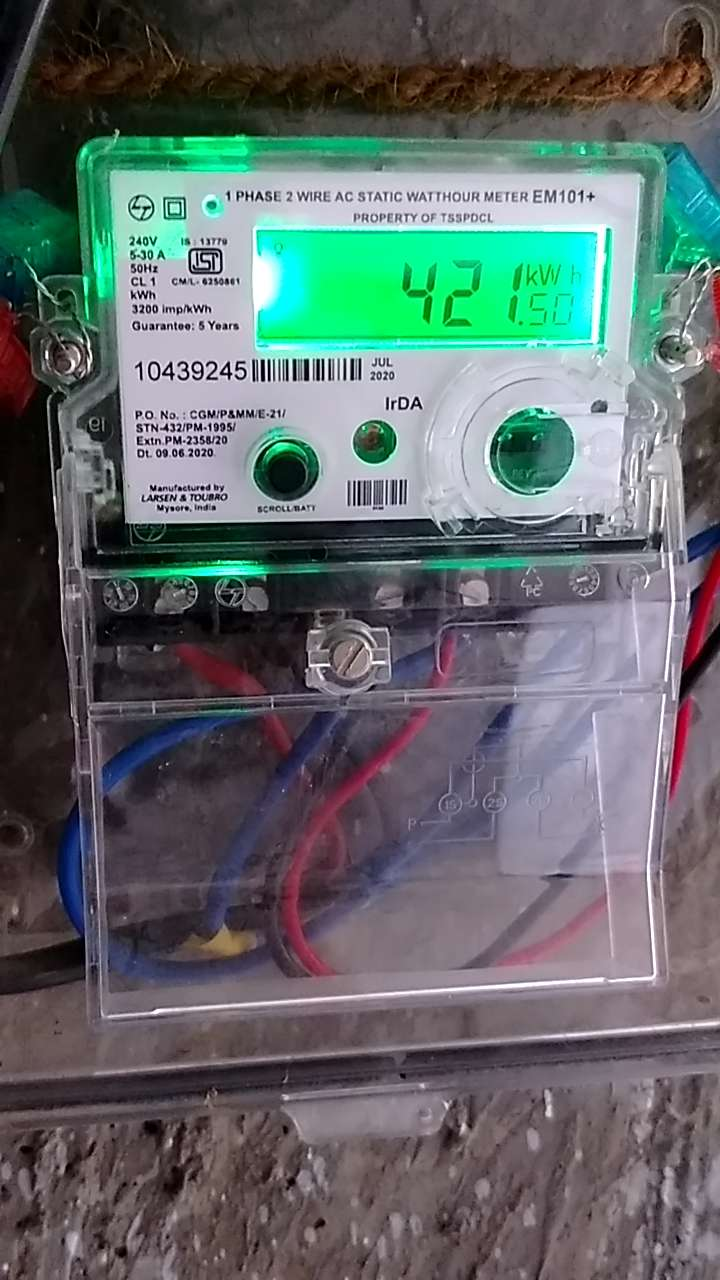meter_serial_number: (131, 357, 252, 387)
